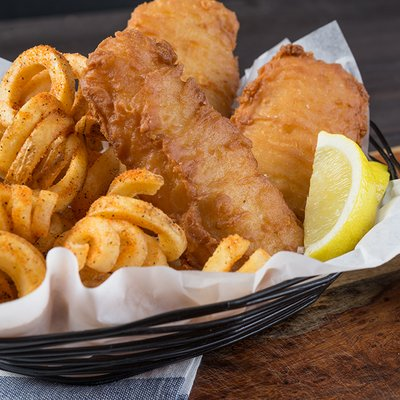sushi: (0, 229, 50, 336)
taco: (302, 133, 391, 261)
